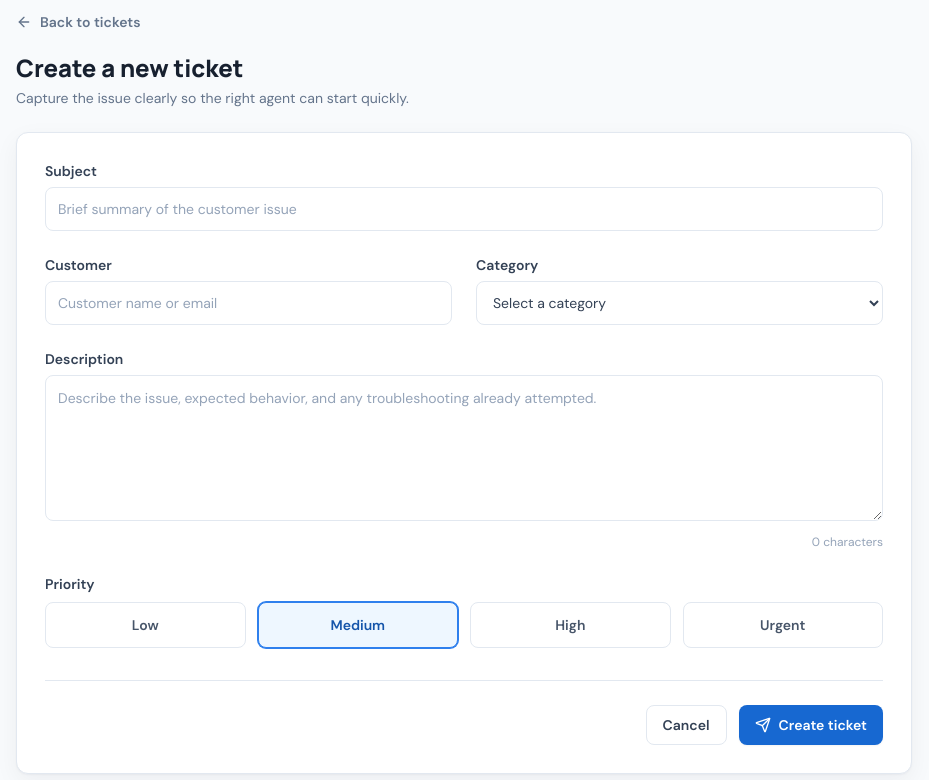
Test: CreateTicketPage › creates a ticket and displays success
In the field labelled "Subject": (464, 209) [45,187,883,231], type "Billing issue"
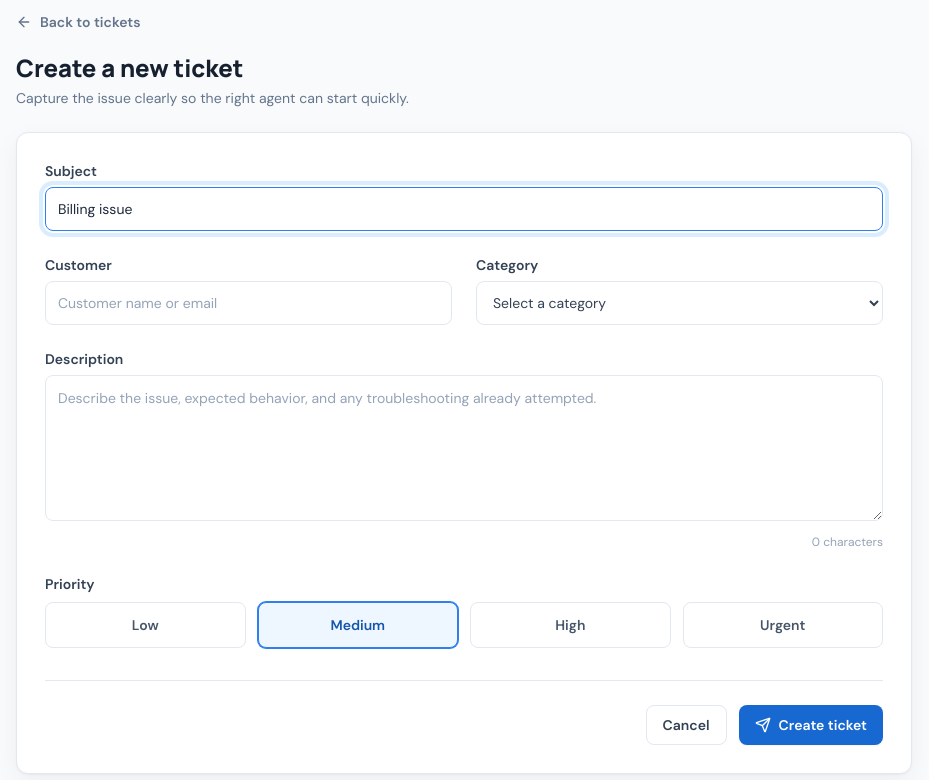
In the field labelled "Customer": (248, 303) [45,281,452,325], type "Northstar Ltd"
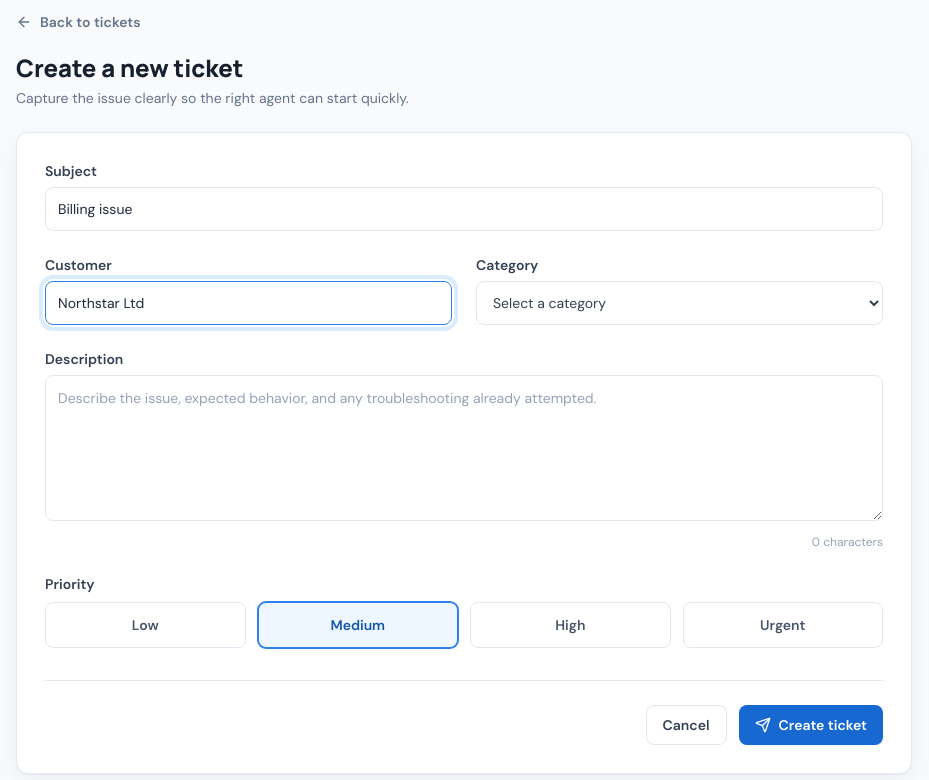
Select "Billing" in the dropdown labelled "Category": (680, 303) [476,281,883,325]
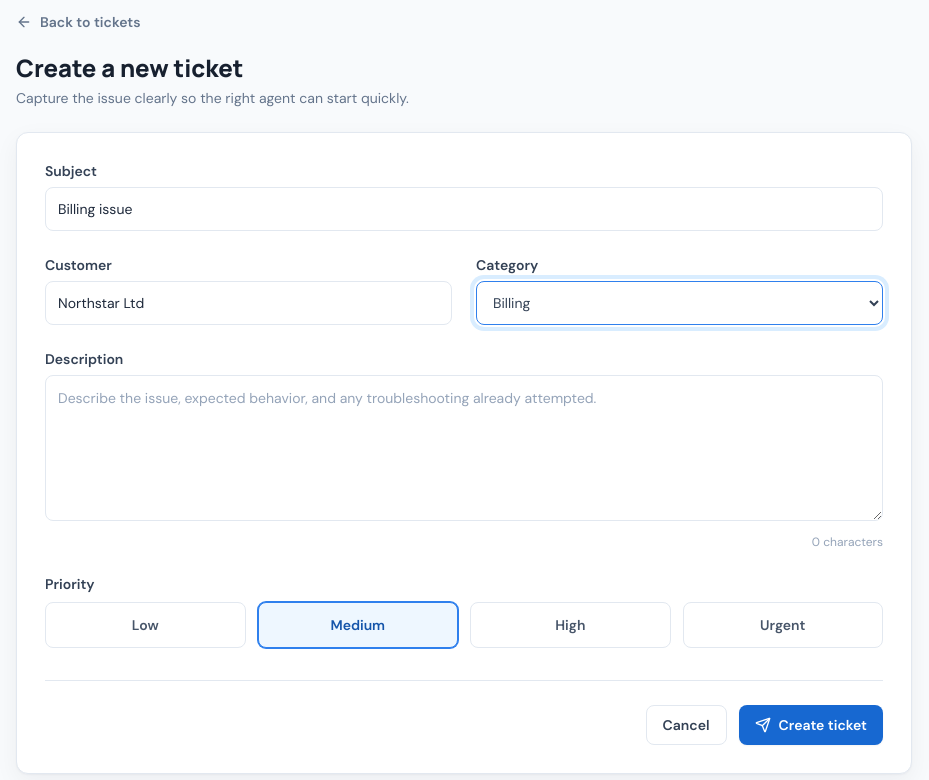
In the text box labelled "Description": (464, 448) [45,375,883,521], type "Duplicate charge appeared on the latest invoice."
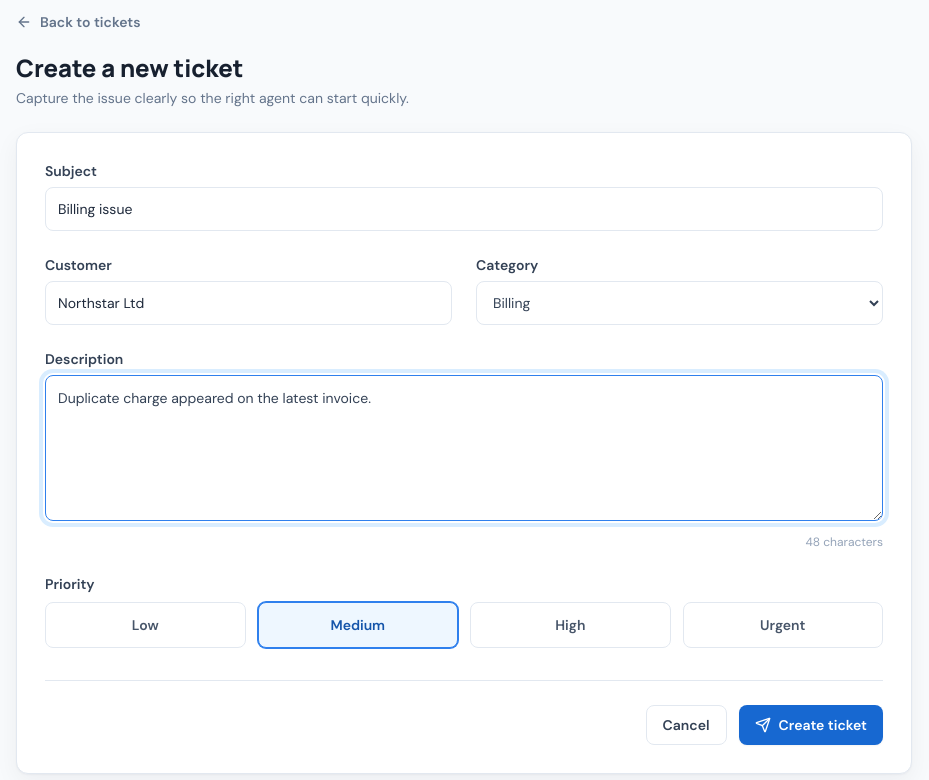
Click the radio button labelled "high": click(570, 625) [470,602,670,648]
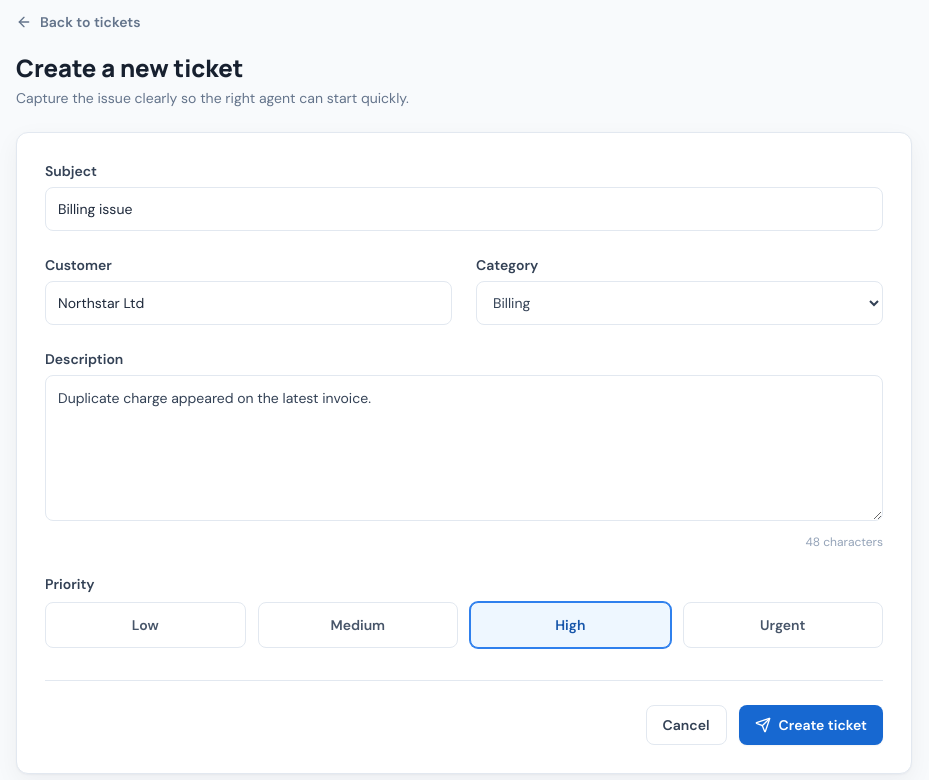
Click the button "Create ticket": click(811, 725) [738,705,883,745]
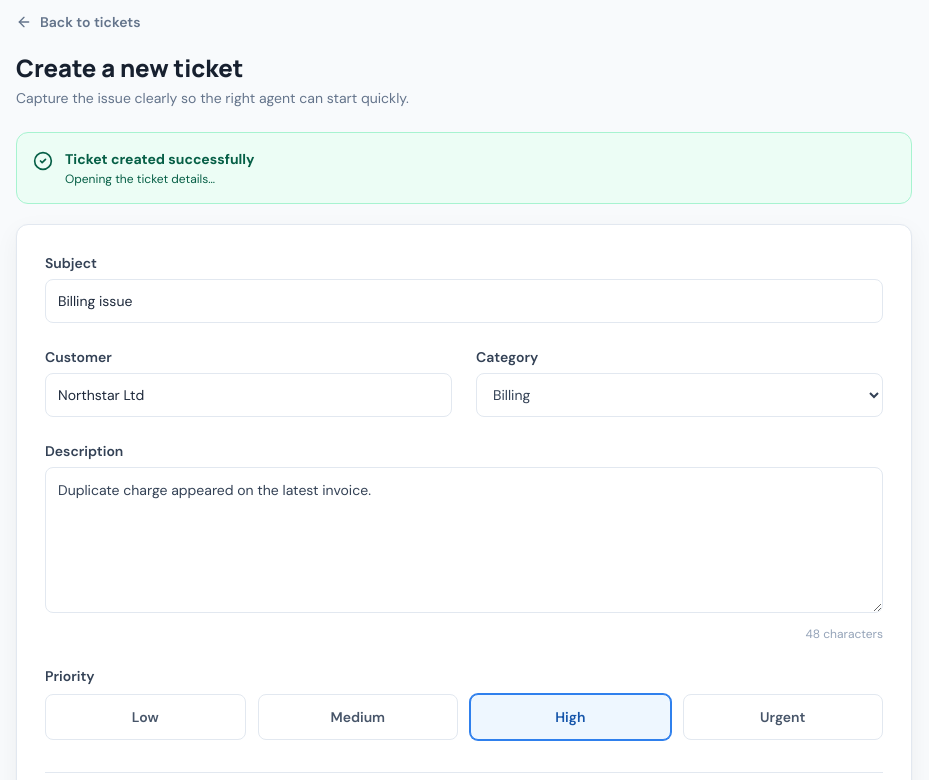
Result: the text "Ticket created successfully" is shown at [65,149,254,169]
